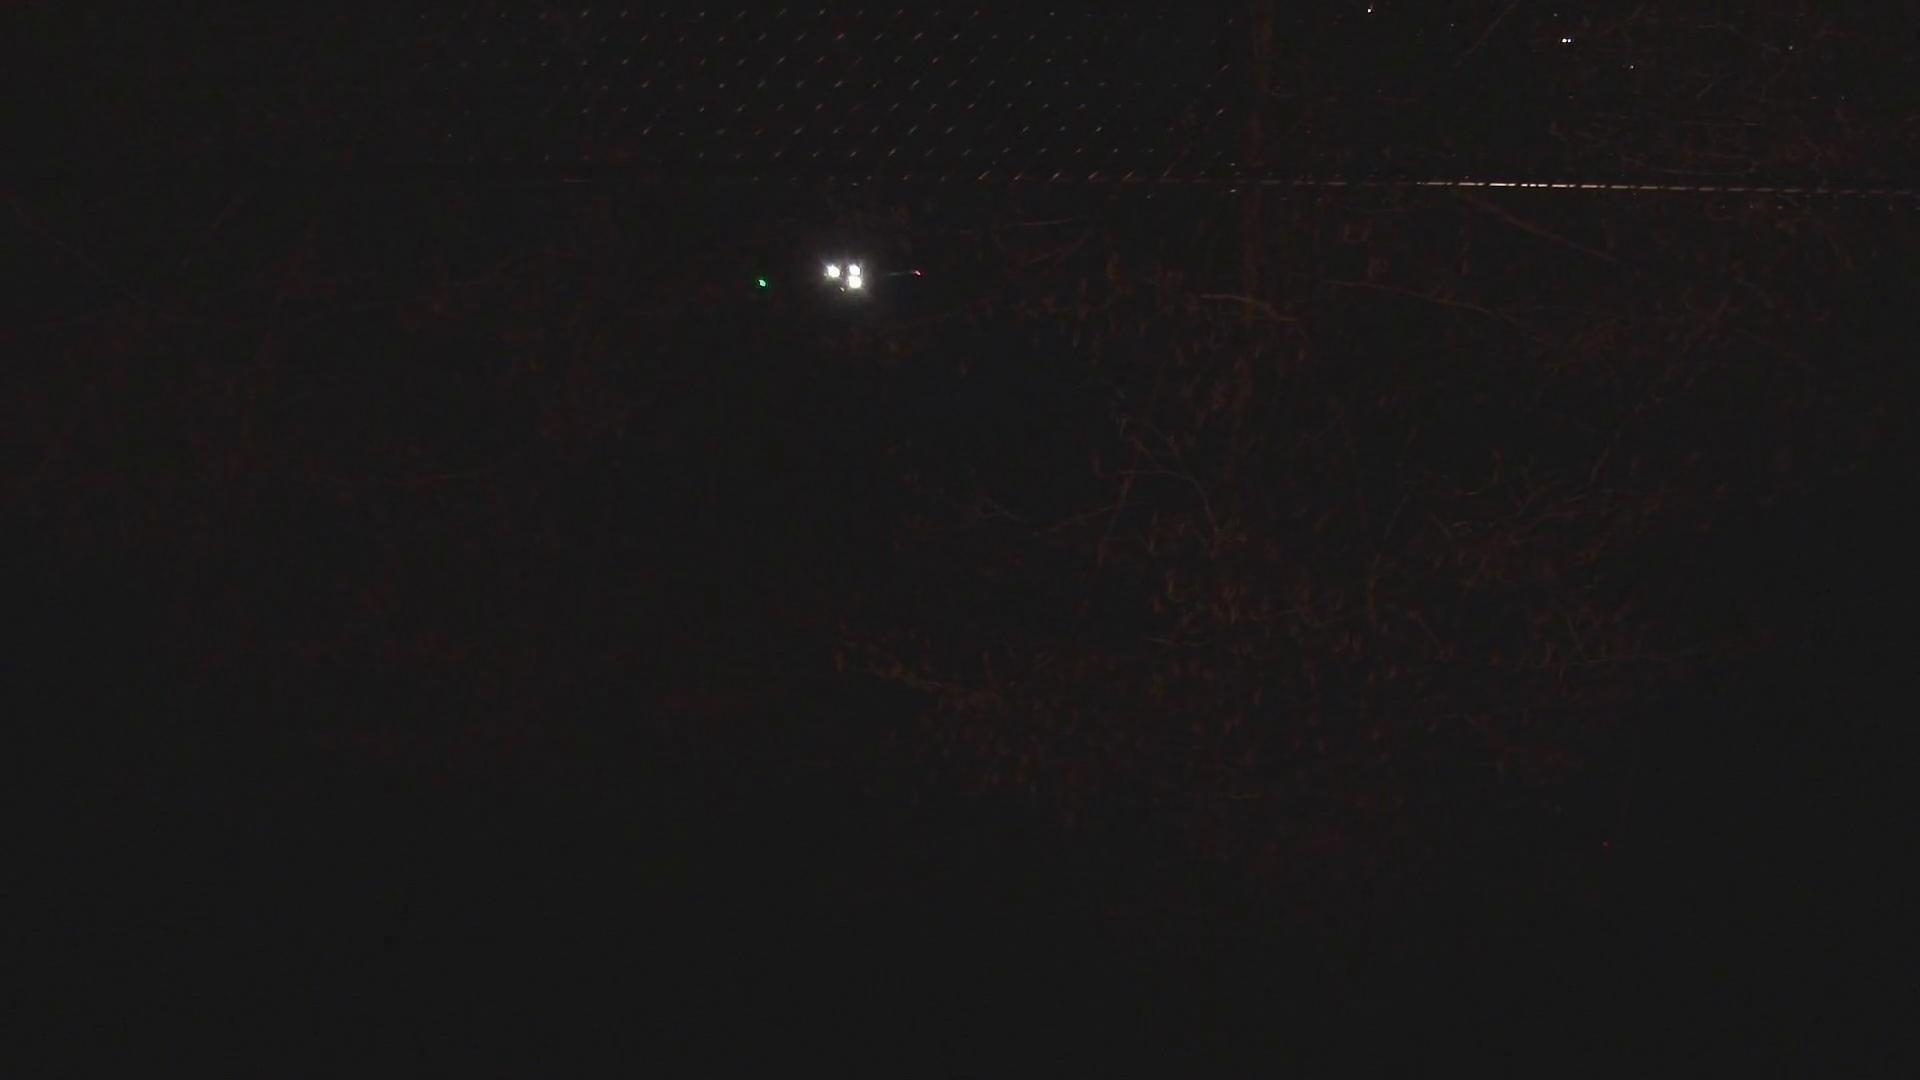Plane: (746, 247, 960, 301)
